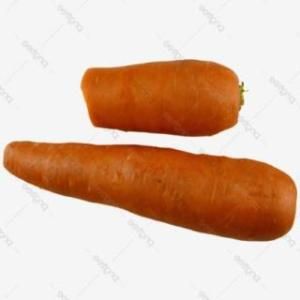carrot: (2, 137, 296, 243), (79, 60, 247, 138)
